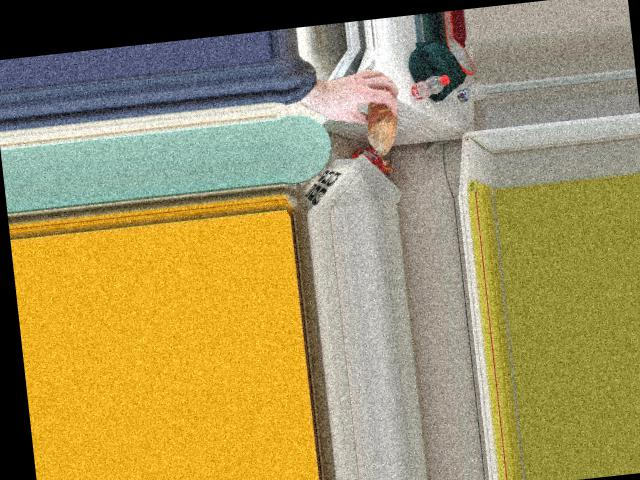sweet_potato: (356, 90, 396, 140)
